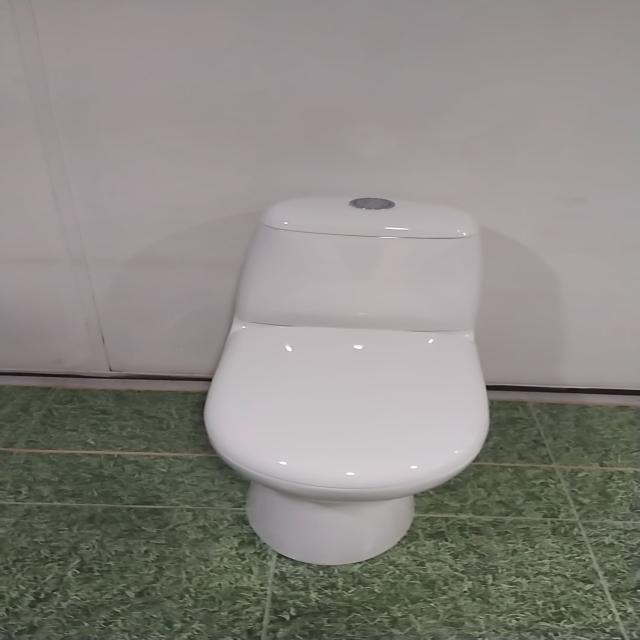toilet: (196, 188, 507, 568)
